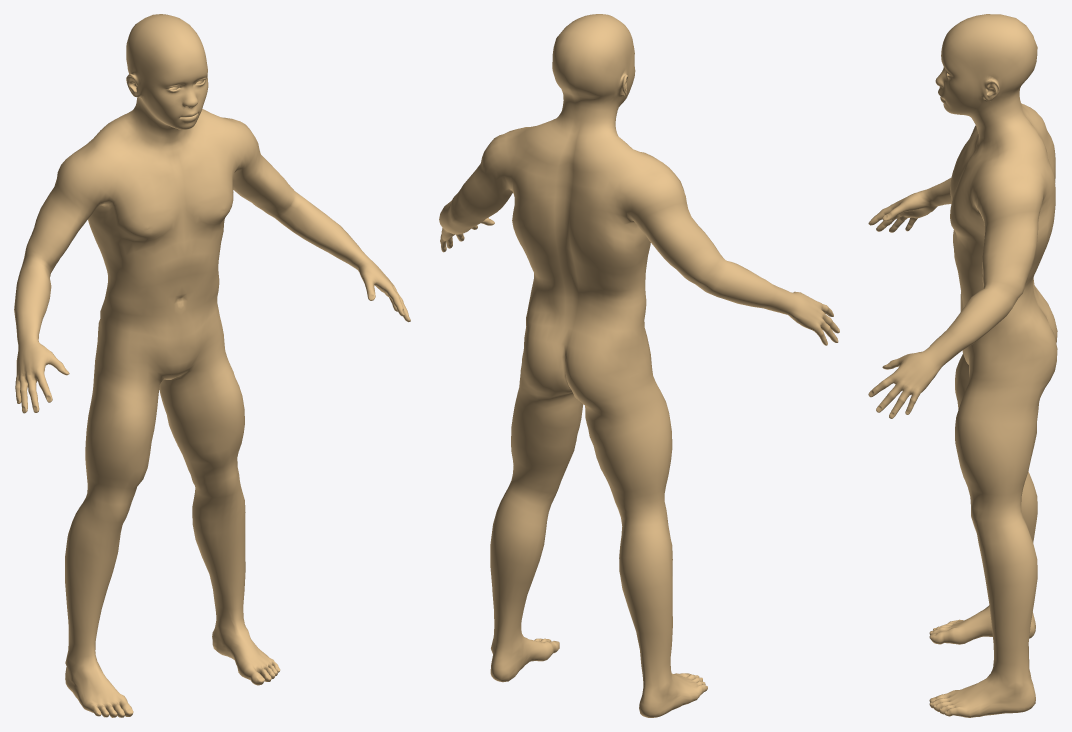
3 views of the same model, side by side, from view 1: azimuth 30°, elevation 25°; view 2: azimuth 150°, elevation 25°; view 3: azimuth 270°, elevation 25° (orthographic).
Visible parts, largest first — view 1: Human; view 2: Human; view 3: Human.
Part boxes in pixels (box(x1,y1,x2,y2)): Human: box(14, 14, 410, 717); Human: box(439, 14, 839, 717); Human: box(868, 14, 1057, 717).
Bounding box in the file's own units: 0.9476 × 1.55 × 0.4039.
